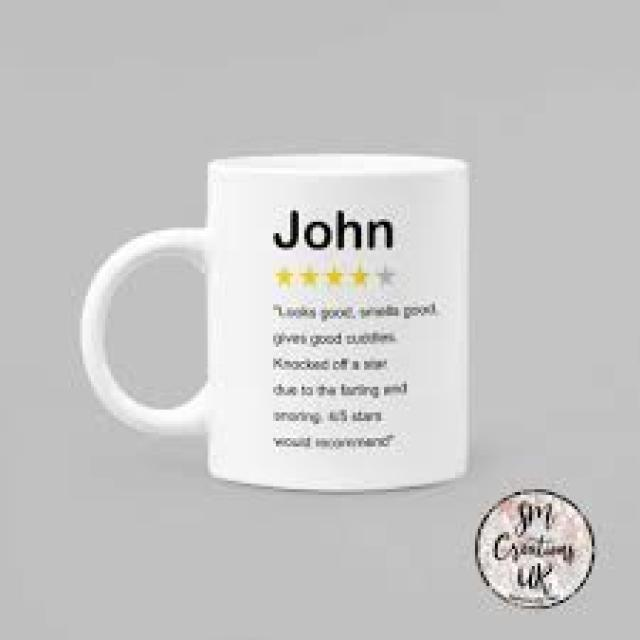taza: (70, 143, 482, 508)
